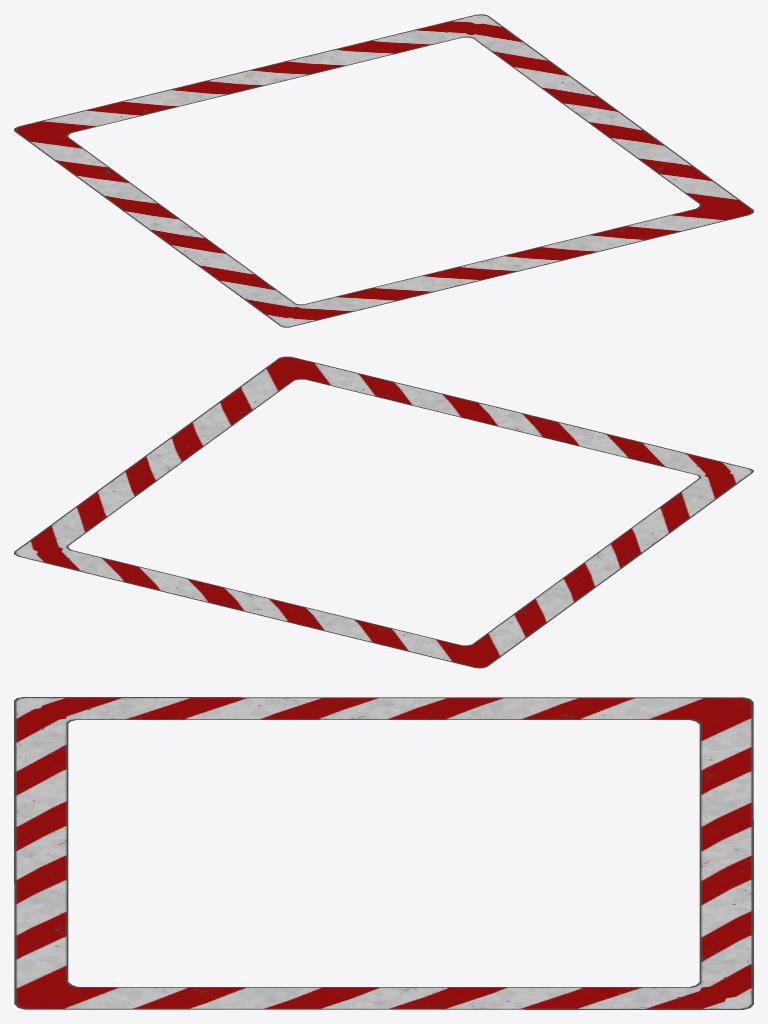
The model's file is SM_FloorDecal_QuadRed2x2.FBX.
3 views of the same model, one above another, from view 1: azimuth 30°, elevation 25°; view 2: azimuth 150°, elevation 25°; view 3: azimuth 270°, elevation 25° (orthographic). The views are drawn at different scales.
Parts seen in each view (by area): view 1: SM_FloorDecal_QuadRed2x2; view 2: SM_FloorDecal_QuadRed2x2; view 3: SM_FloorDecal_QuadRed2x2.
Part boxes in pixels (x1,y1,x2,y2): SM_FloorDecal_QuadRed2x2: (14,14,753,327); SM_FloorDecal_QuadRed2x2: (14,356,753,668); SM_FloorDecal_QuadRed2x2: (14,697,753,1009).
Size of the model in its own units: 215 by 215 by 3.64e-12.
